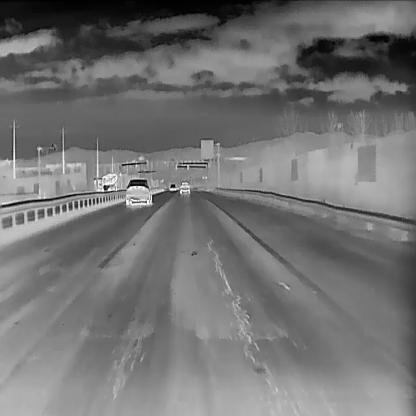car: (125, 177, 152, 206), (93, 171, 120, 195), (179, 180, 190, 193), (169, 183, 176, 191)
